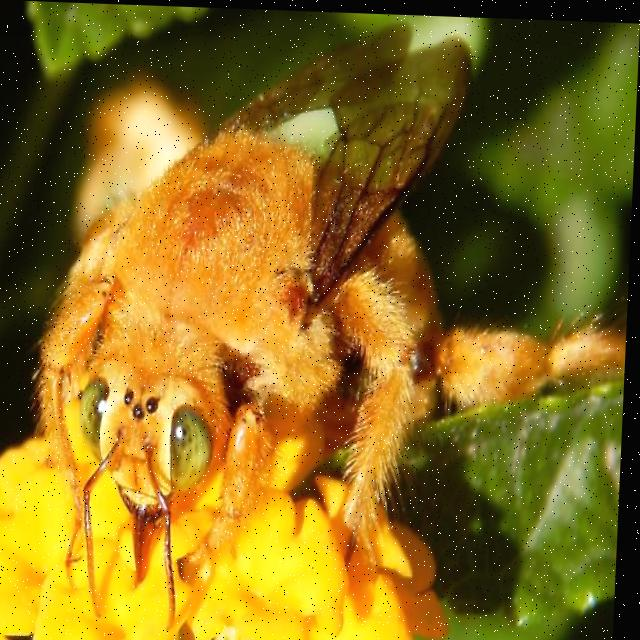Braunsapis: (31, 36, 601, 584)
